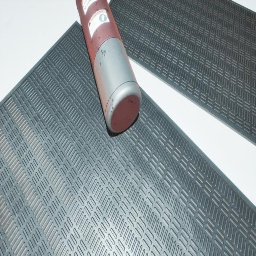NitrogenTank ,: (75, 0, 142, 133)
